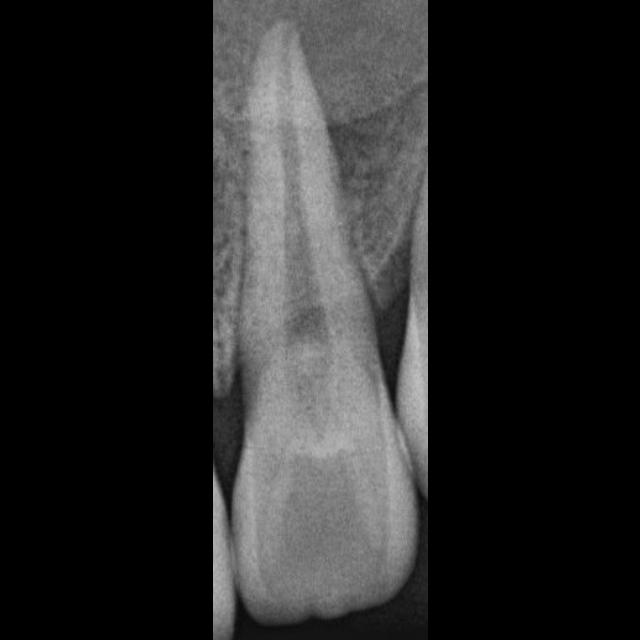tooth: (229, 16, 419, 627)
